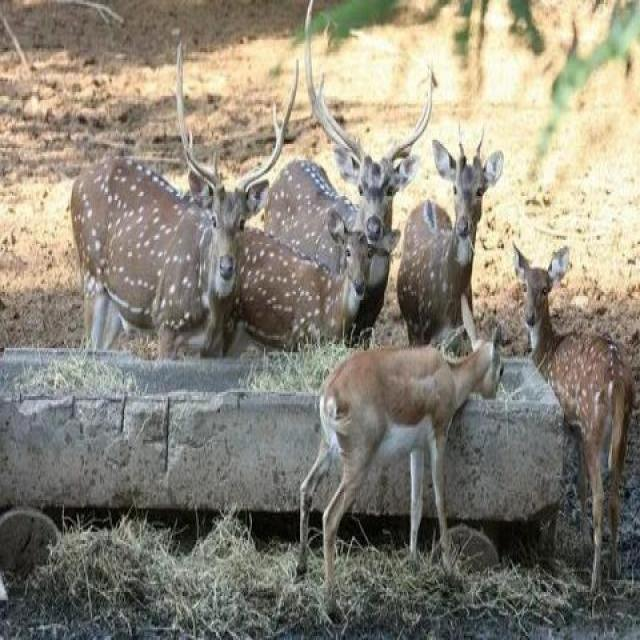deer: (62, 104, 286, 444), (296, 254, 516, 533), (501, 213, 640, 598), (376, 98, 538, 373), (218, 179, 398, 394), (262, 91, 422, 332)
